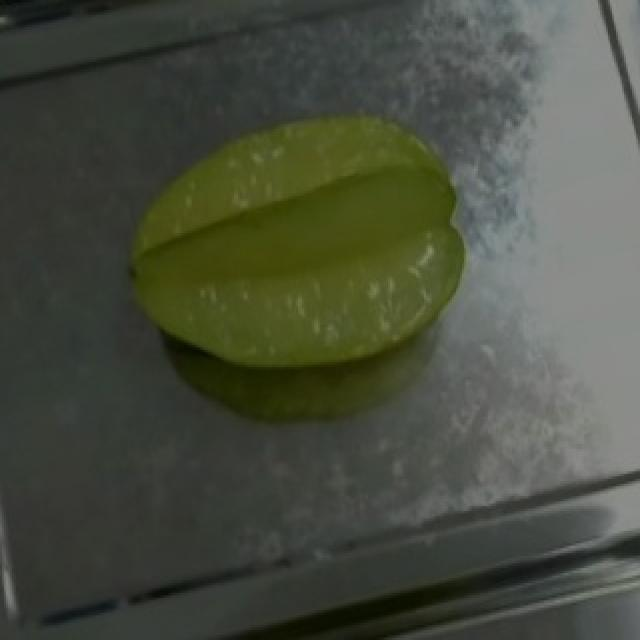fruit: (114, 67, 510, 422)
